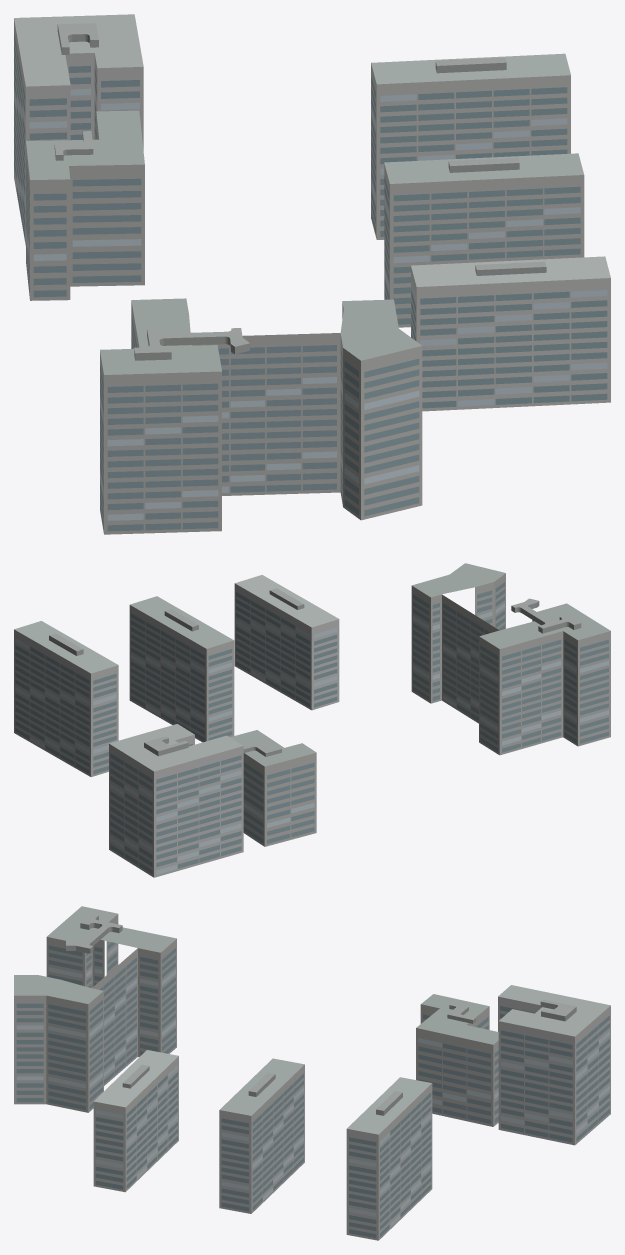
Rendered from apt-a13010001.glb.
3 renders of one model, top to bottom at view 1: azimuth 30°, elevation 25°; view 2: azimuth 150°, elevation 25°; view 3: azimuth 270°, elevation 25°, orthographic. The views are drawn at different scales.
Parts seen in each view (by area): view 1: apt-a13010001; view 2: apt-a13010001; view 3: apt-a13010001.
Part boxes in pixels (x1,y1,x2,y2): apt-a13010001: (14, 14, 610, 534); apt-a13010001: (14, 563, 610, 877); apt-a13010001: (14, 906, 610, 1240).
Bounding box in the file's own units: 174 × 41 × 195.
